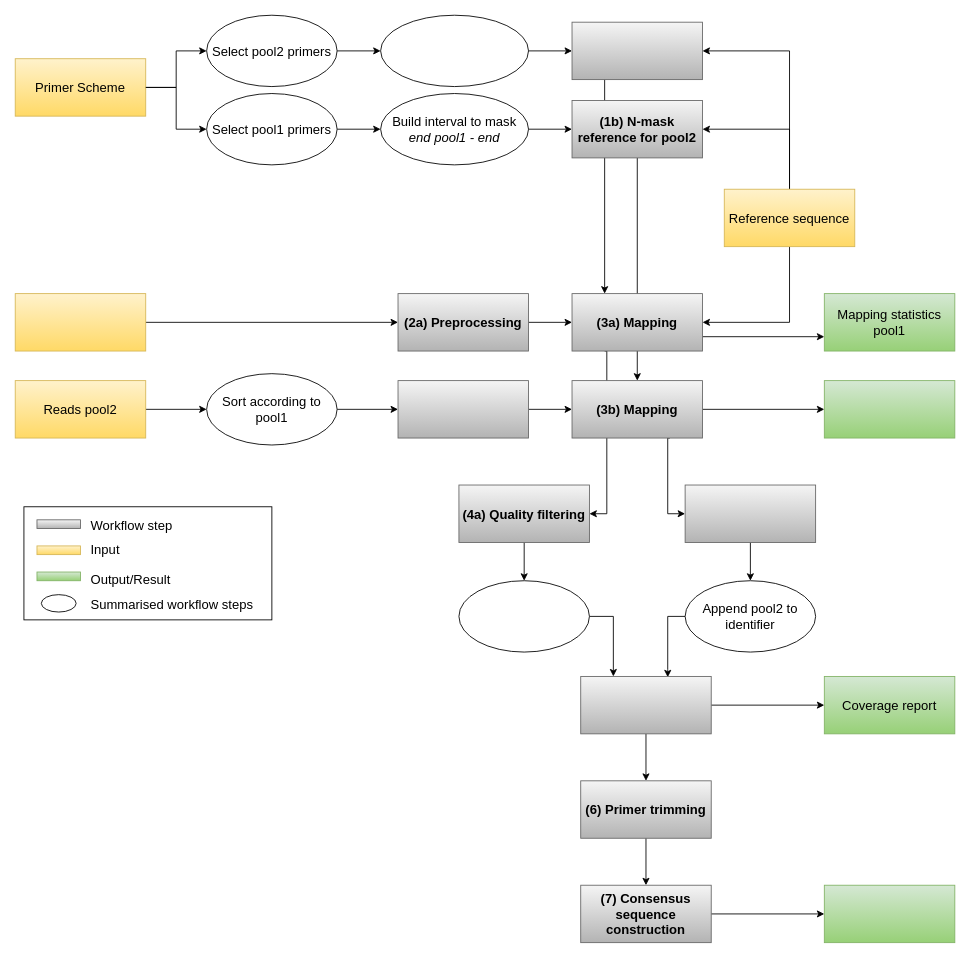
The diagram is 970 pixels wide and 958 high, and some of its shapes have lost their labels. The shapes that lost their labels are listed below. From the top down, each one's box as (x1, y1, x2, y2) in pixels, then its label:
(380, 14, 529, 87): Build interval to mask 0 - start pool2
(571, 21, 703, 80): (1a) N-mask reference for pool1
(14, 293, 146, 351): Reads pool1
(397, 380, 529, 438): (2b) Preprocessing
(823, 380, 955, 438): Mapping statistics pool2
(684, 484, 816, 542): (4b) Quality filtering
(458, 580, 589, 652): Append pool1 to identifier
(580, 676, 711, 734): (5) Merge mappings
(823, 884, 955, 943): Combined consensus sequence
